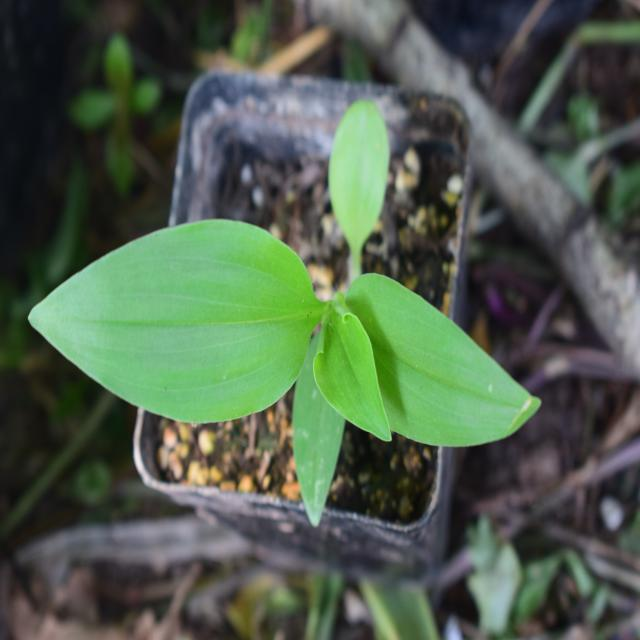Common Dayflower: (26, 205, 534, 476)
